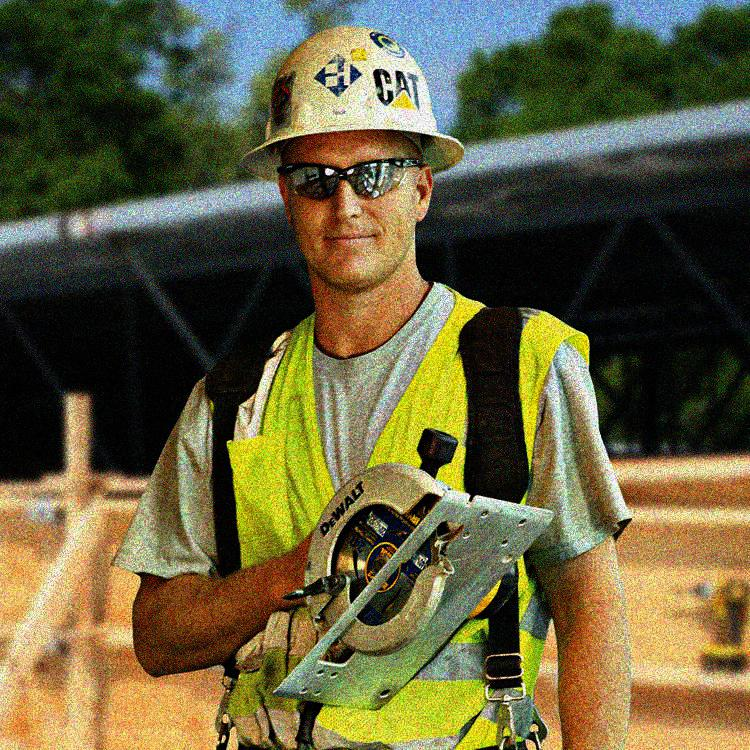helmet: (237, 21, 471, 287)
